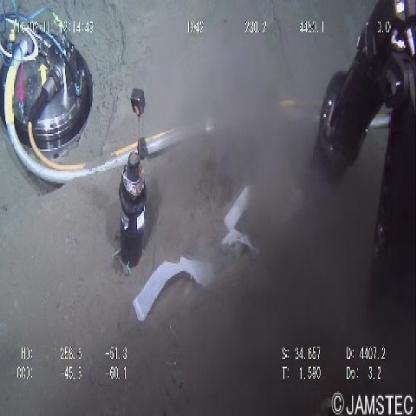Rov: (307, 1, 416, 209), (1, 4, 96, 186), (115, 80, 152, 276)
Rác: (132, 182, 282, 326)
